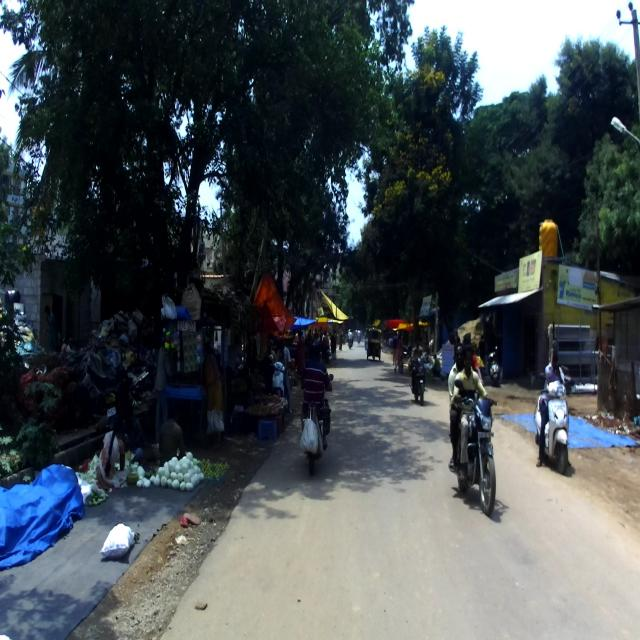motorcycle: (448, 380, 498, 515), (300, 373, 333, 476), (407, 350, 428, 406)
scooter: (533, 372, 575, 474)
